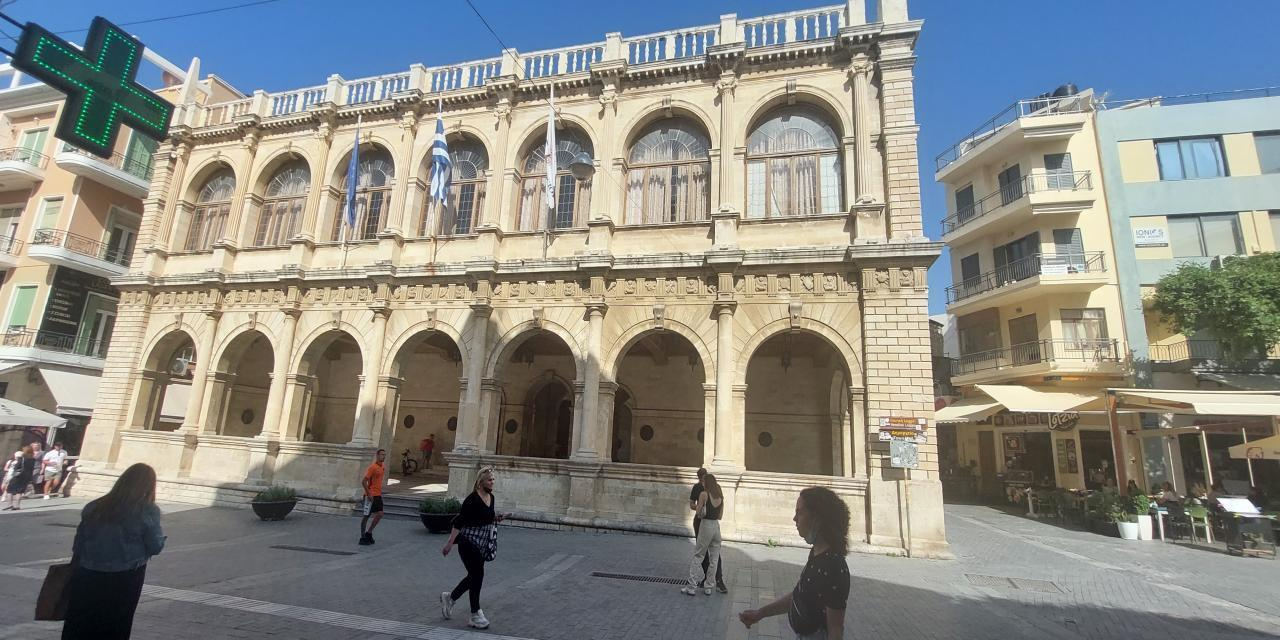Loggia: (59, 1, 965, 566)
